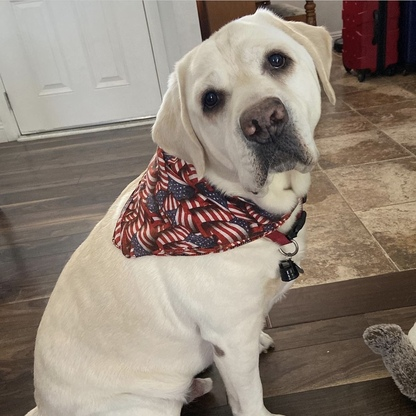labrado: (20, 1, 340, 416)
